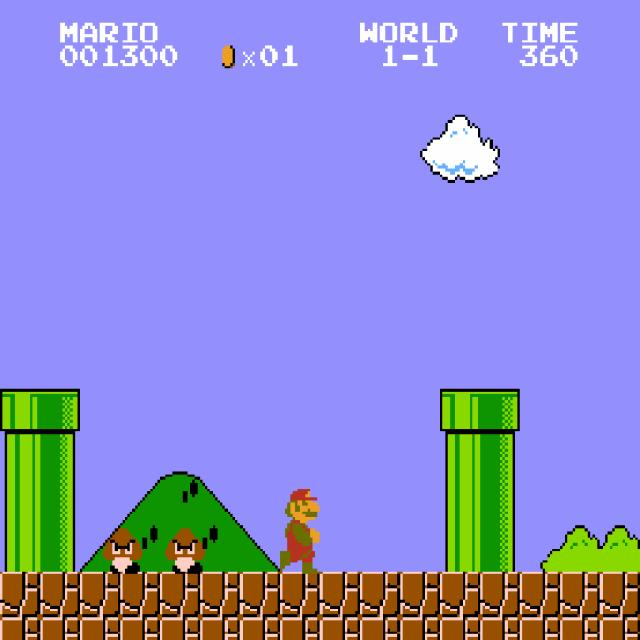big_mario: (277, 480, 320, 574)
goomba: (100, 526, 143, 574), (163, 526, 205, 574)
pipe: (0, 525, 40, 571), (40, 434, 80, 480), (40, 480, 80, 526), (440, 434, 480, 480), (440, 480, 480, 526), (480, 434, 520, 480), (480, 480, 520, 526), (0, 434, 40, 479), (0, 480, 40, 525), (40, 526, 80, 571), (440, 526, 480, 571), (480, 526, 520, 571)
pipe_head: (0, 388, 40, 434), (40, 389, 80, 434), (440, 389, 480, 434), (480, 389, 520, 434)
undestructible_block: (599, 571, 640, 617), (0, 571, 40, 617), (40, 572, 80, 617), (80, 572, 120, 617), (120, 572, 160, 617), (160, 572, 200, 617), (200, 572, 240, 617), (240, 572, 280, 617), (280, 572, 320, 617), (320, 572, 360, 617), (360, 572, 400, 617), (400, 572, 440, 617), (440, 572, 480, 617), (480, 572, 520, 617), (520, 572, 560, 617), (560, 572, 600, 617), (40, 617, 80, 640), (80, 617, 120, 640), (120, 617, 160, 640), (160, 617, 200, 640), (200, 617, 240, 640), (240, 617, 280, 640), (280, 617, 320, 640), (320, 617, 360, 640), (360, 617, 400, 640), (400, 617, 440, 640), (440, 617, 480, 640), (480, 617, 520, 640), (520, 617, 560, 640), (560, 617, 600, 640), (599, 617, 640, 639), (0, 617, 40, 639)
